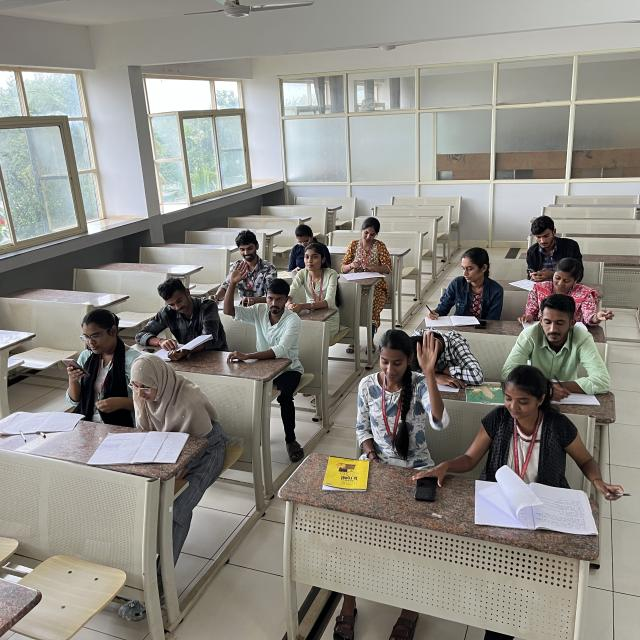Hand Rising: (349, 327, 450, 453), (223, 262, 298, 351)
Reading: (502, 298, 608, 397), (106, 353, 197, 455), (126, 282, 224, 355), (520, 255, 608, 329), (336, 218, 409, 284)
Sleeping: (393, 315, 484, 383)
Using Phone: (402, 364, 620, 494), (44, 312, 134, 402), (510, 217, 592, 277), (266, 221, 335, 274)
Writing: (406, 244, 508, 328)
